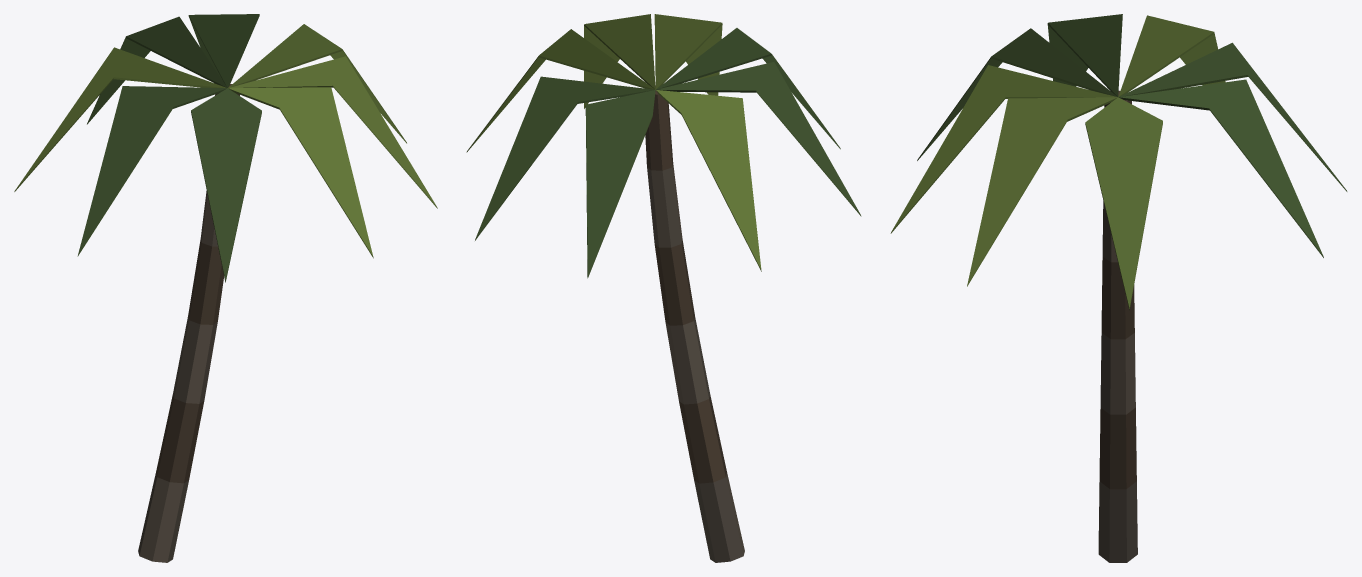
File: walk_prop_palm.glb
3 views of the same model, side by side, from view 1: azimuth 30°, elevation 25°; view 2: azimuth 150°, elevation 25°; view 3: azimuth 270°, elevation 25° (orthographic). The views are drawn at different scales.
Visible parts, largest first — view 1: walk_prop_palm; view 2: walk_prop_palm; view 3: walk_prop_palm.
Part boxes in pixels (bbox=[...]): walk_prop_palm: bbox=[14, 14, 437, 562]; walk_prop_palm: bbox=[466, 14, 861, 562]; walk_prop_palm: bbox=[890, 14, 1347, 562].
Size of what is drawn, in the model's own units: 5.9 by 7.45 by 5.88.
1 material, 1 textured.
